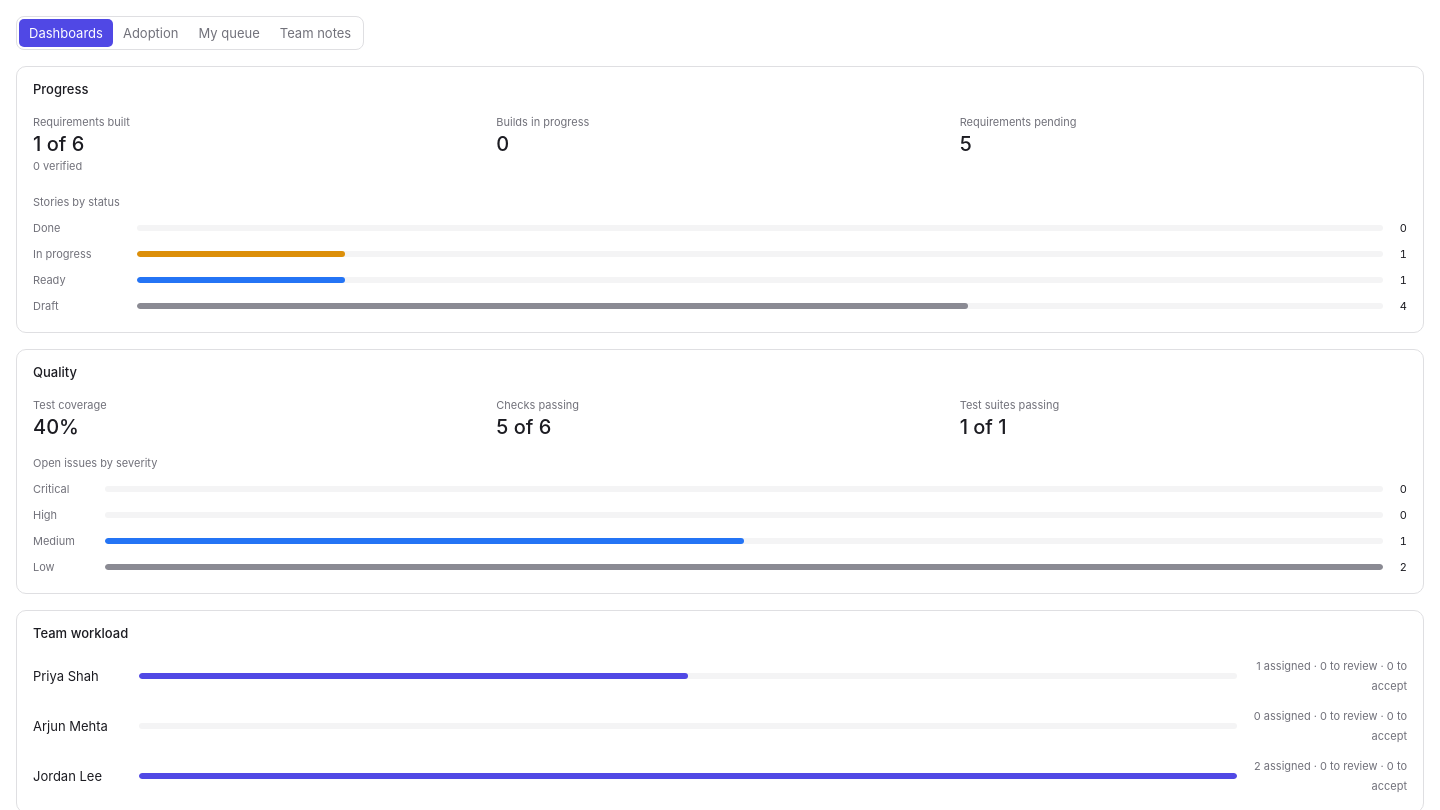
Test: InsightsSection › Team notes tab shows an empty state for a quiet project
Click the tab "Team notes": click(316, 33) x1=270 y1=19 x2=361 y2=47
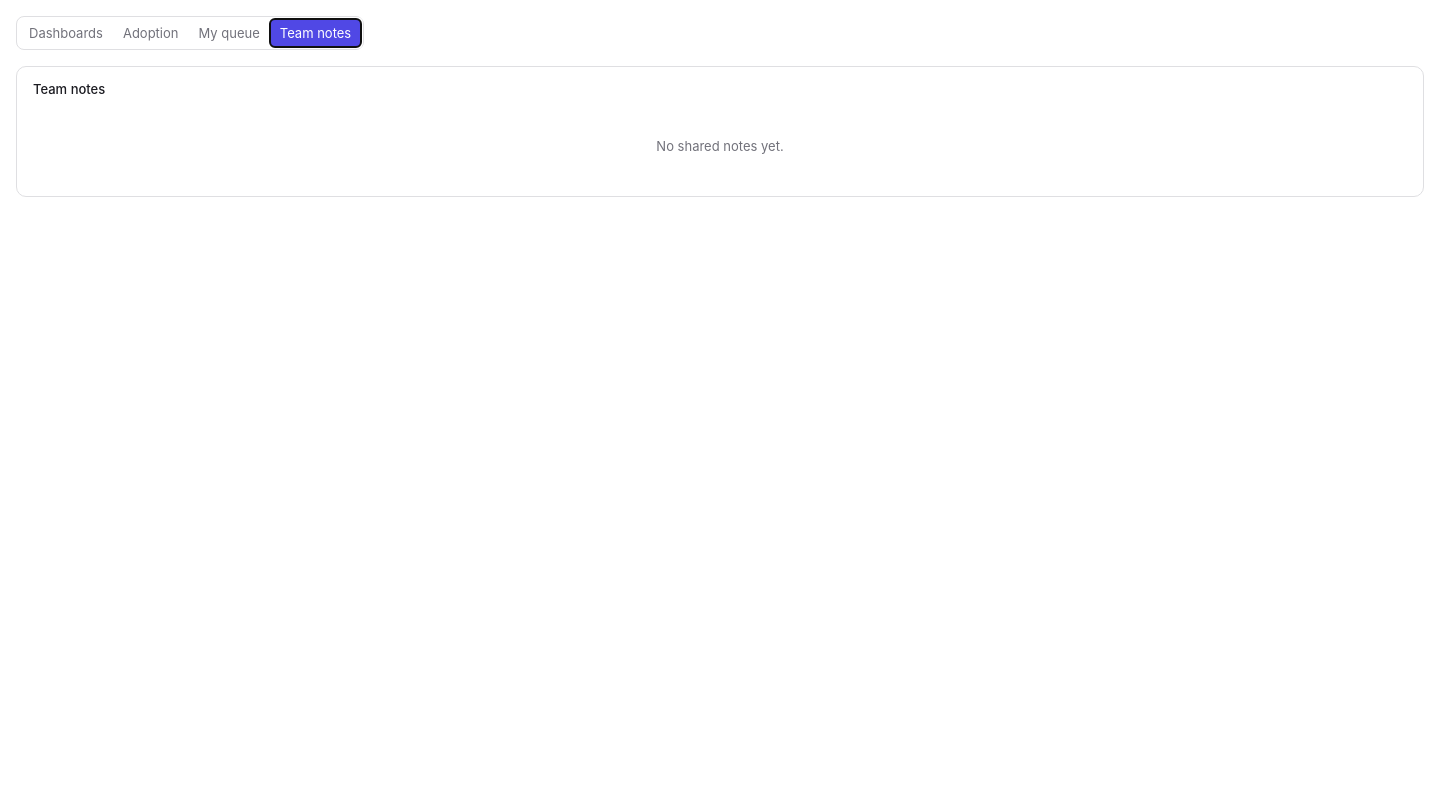
Expected: the text "No shared notes yet." is shown, x1=656 y1=138 x2=784 y2=154
